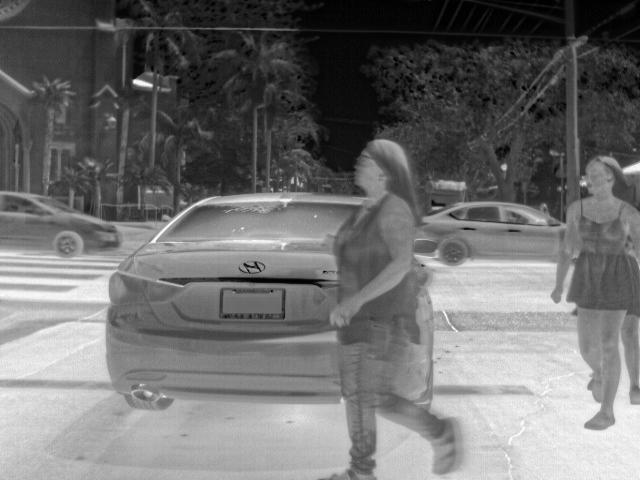car: (105, 191, 366, 412), (419, 200, 562, 265), (4, 188, 123, 259)
person: (312, 135, 464, 477), (552, 156, 640, 432)
